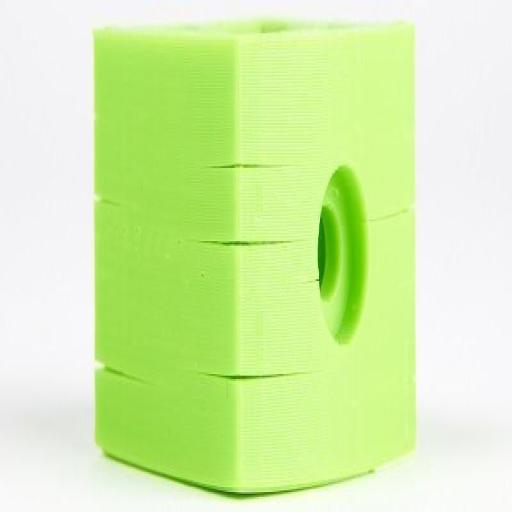cracks: (186, 228, 295, 252), (96, 350, 157, 392), (192, 361, 312, 382), (204, 154, 288, 180), (96, 187, 124, 217)
